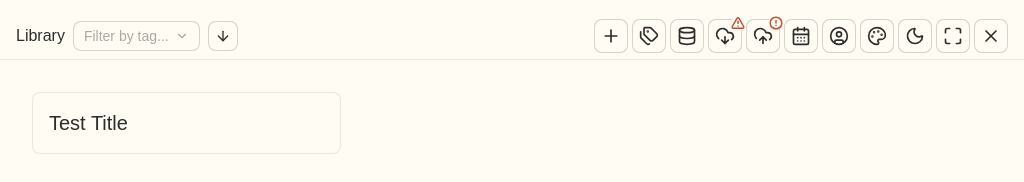
Test: Multi-Text Library Flow › US3: Read Text › back button returns to library
The width and height of the screenshot is (1024, 182).
Expected: the heading "Test Title" is shown, [49,109,128,137]
# Open a text
What coordinates should you click on to do the following:
click the button "Test Title"
I would click on:
 (88, 123)
Its box is [32,92,341,154].
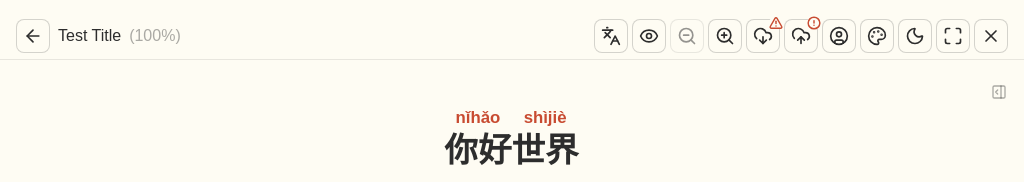
Now the button named "back to library" is shown
# Click back
What coordinates should you click on to do the following:
click the button named "back to library"
I would click on:
 (33, 36)
Its box is [16,18,50,52].
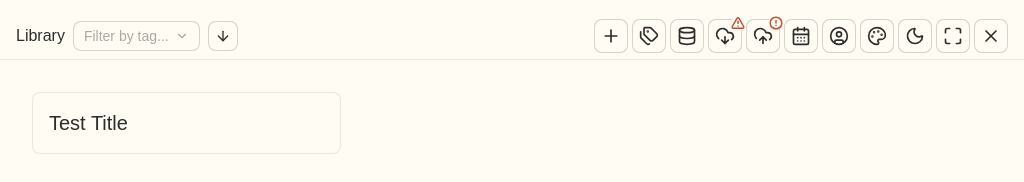
Now the button named "add text" is shown, box [594,18,628,52]
